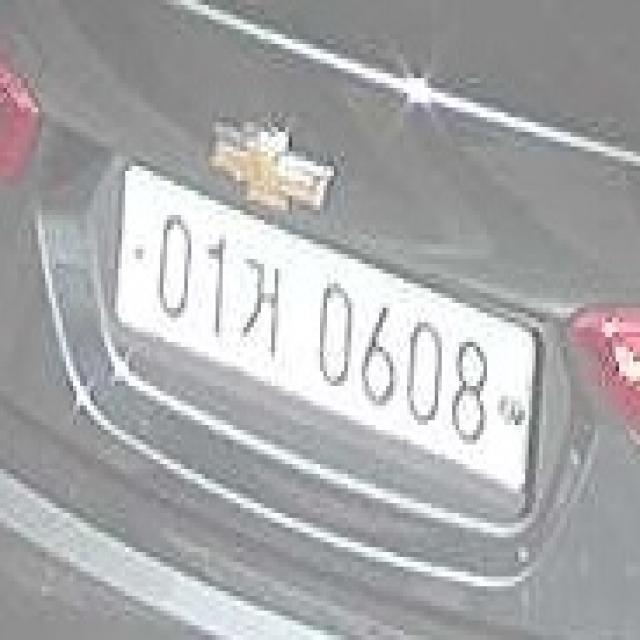0: (403, 306, 448, 439), (150, 199, 196, 326), (316, 270, 354, 398)
1: (202, 220, 235, 344)
6: (358, 292, 404, 419)
8: (449, 330, 496, 460)
geo: (237, 255, 287, 364)
license_plate: (106, 148, 545, 526)
